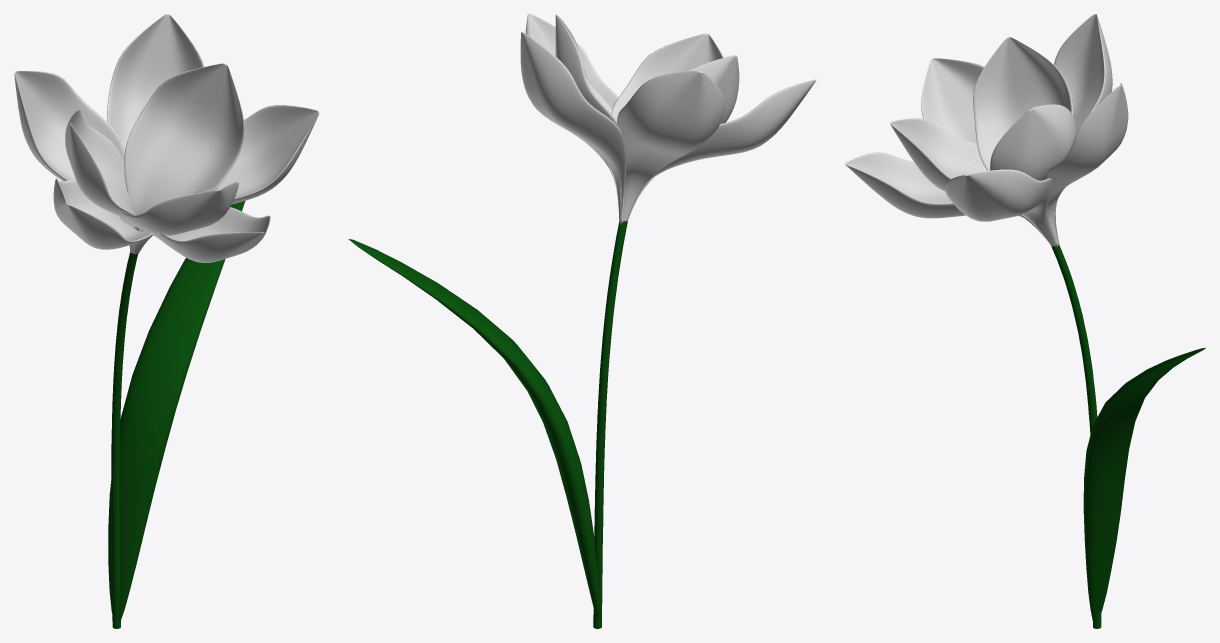
The picture shows the model from 3 angles, left to right: view 1: azimuth 30°, elevation 25°; view 2: azimuth 150°, elevation 25°; view 3: azimuth 270°, elevation 25°; orthographic projection. The views are drawn at different scales.
Parts seen in each view (by area): view 1: f09; view 2: f09; view 3: f09.
Part boxes in pixels (x1,y1,x2,y2): f09: [14, 14, 319, 628]; f09: [348, 14, 816, 628]; f09: [845, 14, 1205, 628].
Size of the model in its own units: 2.68 by 4.6 by 2.62.
